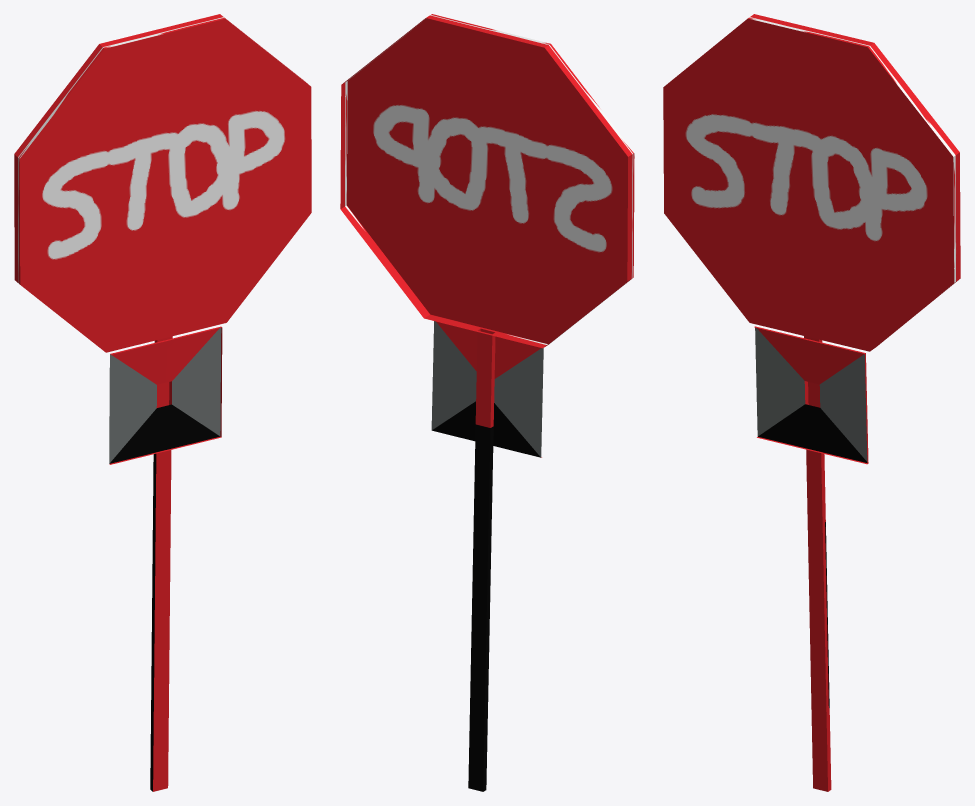
The model's file is stopsign.fbx.
3 views of the same model, side by side, from view 1: azimuth 30°, elevation 25°; view 2: azimuth 150°, elevation 25°; view 3: azimuth 330°, elevation 25° (orthographic).
Visible parts, largest first — view 1: StopSign, StopSignBody; view 2: StopSign, StopSignBody, StopSignFront, StopSign.001; view 3: StopSign, StopSignBody, StopSignFront.
Part boxes in pixels (x1,y1,x2,y2): StopSign: [14, 14, 311, 450]; StopSignBody: [109, 327, 222, 791]; StopSign: [340, 14, 634, 348]; StopSignBody: [431, 321, 543, 791]; StopSignFront: [468, 328, 541, 791]; StopSign.001: [475, 329, 492, 427]; StopSign: [663, 14, 960, 464]; StopSignBody: [755, 327, 868, 791]; StopSignFront: [757, 336, 831, 791].
Size of the model in its own units: 185 by 464 by 13.
